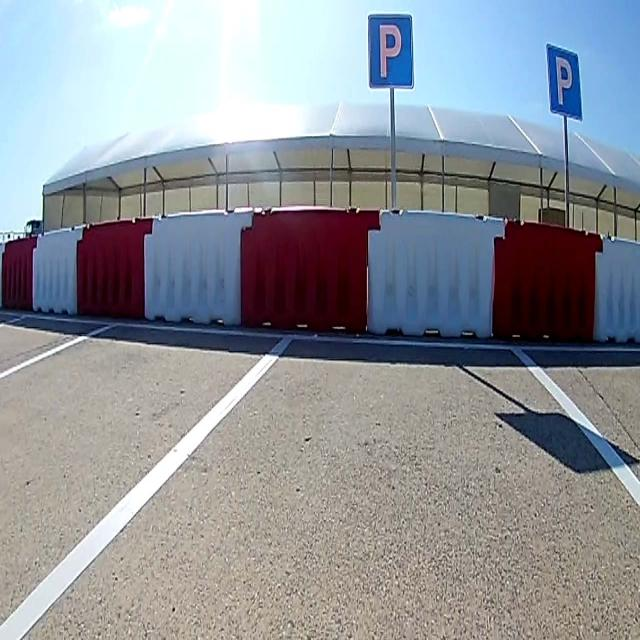park: (368, 15, 414, 87), (546, 45, 583, 119)
